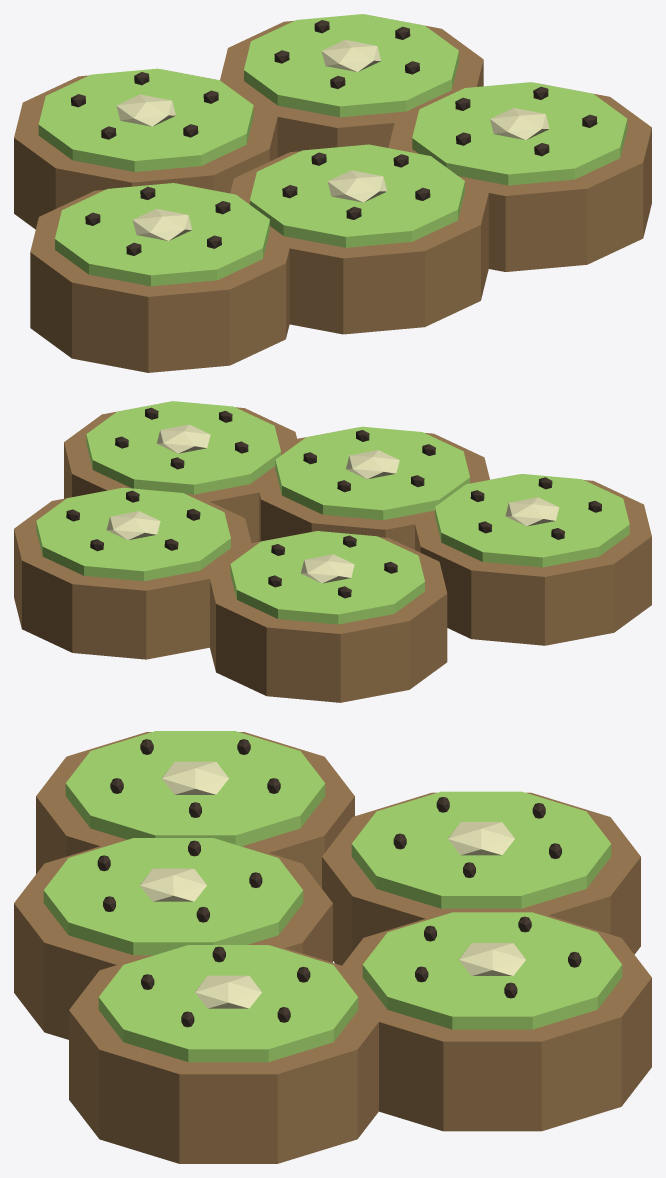
File: FTF_Ingredient_Sliced_Kiwi.glb
The picture shows the model from 3 angles, top to bottom: view 1: azimuth 30°, elevation 25°; view 2: azimuth 150°, elevation 25°; view 3: azimuth 270°, elevation 25°; orthographic projection. The views are drawn at different scales.
Visible parts, largest first — view 1: Kiwi_Skin_00, Kiwi_Flesh_00, Kiwi_Core_00, Kiwi_Seed_00_0; view 2: Kiwi_Skin_00, Kiwi_Flesh_00, Kiwi_Core_00, Kiwi_Seed_00_0; view 3: Kiwi_Flesh_00, Kiwi_Skin_00, Kiwi_Core_00, Kiwi_Seed_00_0.
Boxes of the visible parts, x1,y1,x2,y2 form: Kiwi_Skin_00: (14, 15, 651, 372); Kiwi_Flesh_00: (38, 14, 627, 286); Kiwi_Core_00: (116, 40, 549, 240); Kiwi_Seed_00_0: (71, 20, 597, 255); Kiwi_Skin_00: (14, 402, 651, 702); Kiwi_Flesh_00: (36, 401, 629, 624); Kiwi_Core_00: (106, 424, 559, 583); Kiwi_Seed_00_0: (66, 407, 601, 598); Kiwi_Flesh_00: (43, 731, 622, 1062); Kiwi_Skin_00: (14, 732, 651, 1163); Kiwi_Core_00: (140, 761, 525, 1008); Kiwi_Seed_00_0: (97, 739, 581, 1027).
Bounding box in the file's own units: 0.7358 × 0.119 × 0.58.
